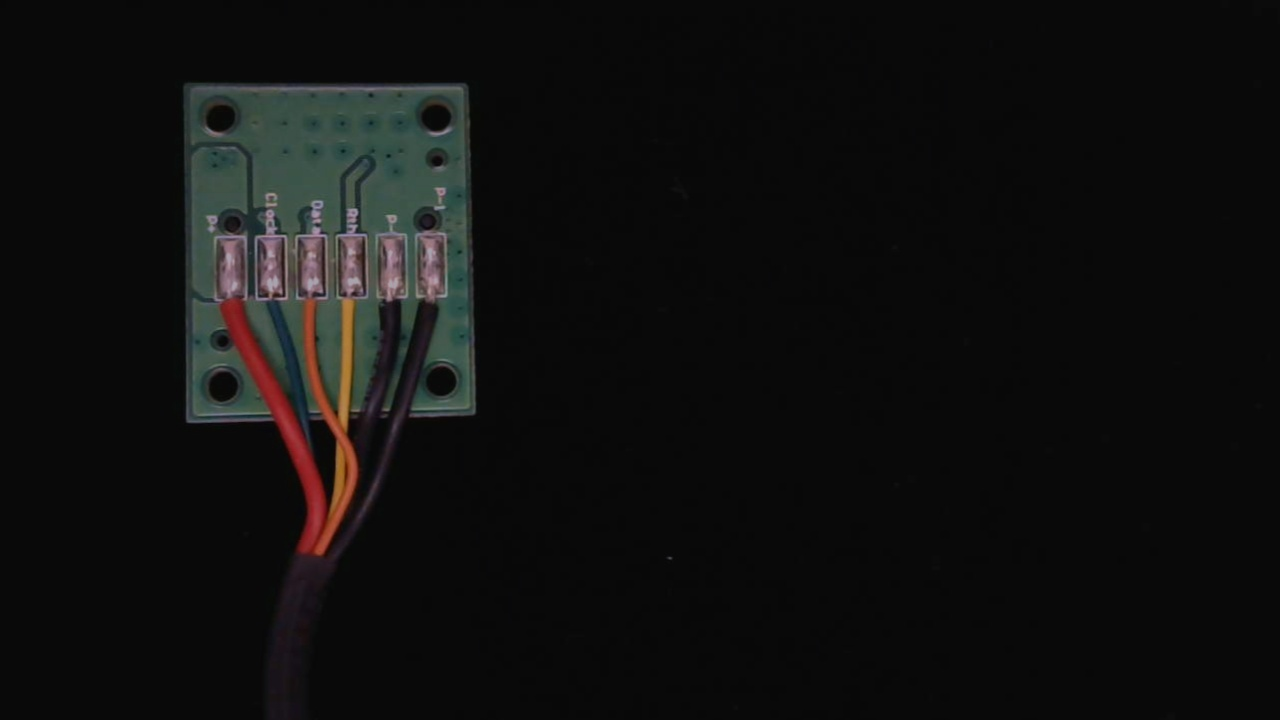Black: (374, 281, 408, 345)
Black1: (417, 279, 450, 346)
Green: (256, 281, 289, 342)
Orange: (294, 280, 328, 339)
Red: (213, 283, 249, 353)
Yellow: (335, 278, 366, 343)
